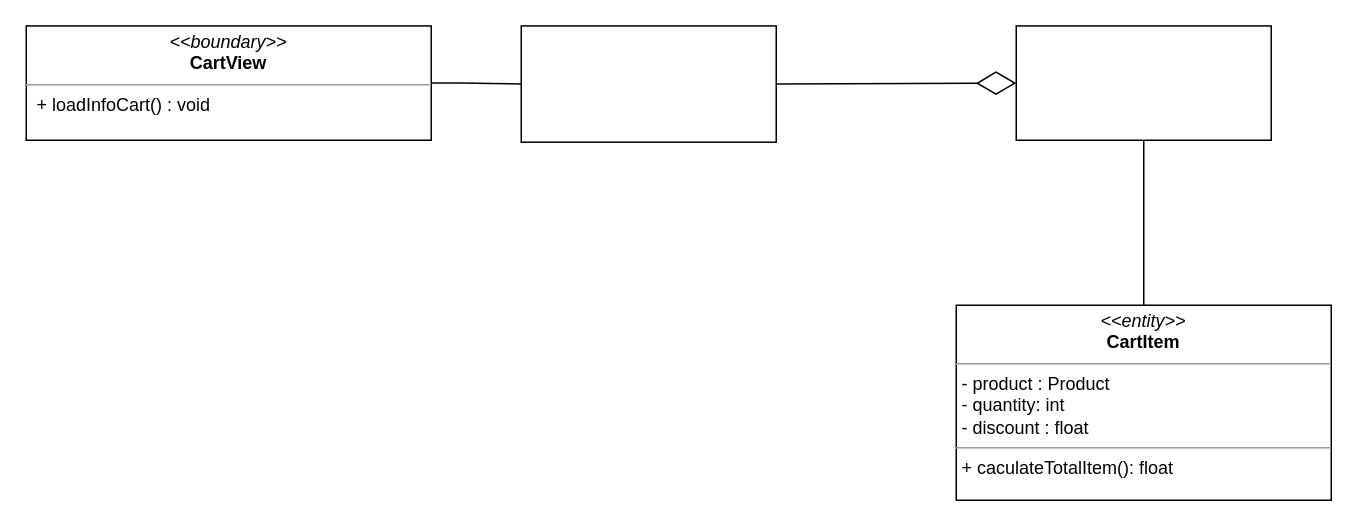
The diagram is 1358 pixels wide and 528 high, and some of its shapes have lost their labels. The centre of each missing label's shape, as x and y in pixels:
"<<controller>> CartController + getAllItem(): List<CartItem>" belongs at (648,83).
"<<service>> CartService + getAllItem(): List<CartItem>" belongs at (1143,82).
